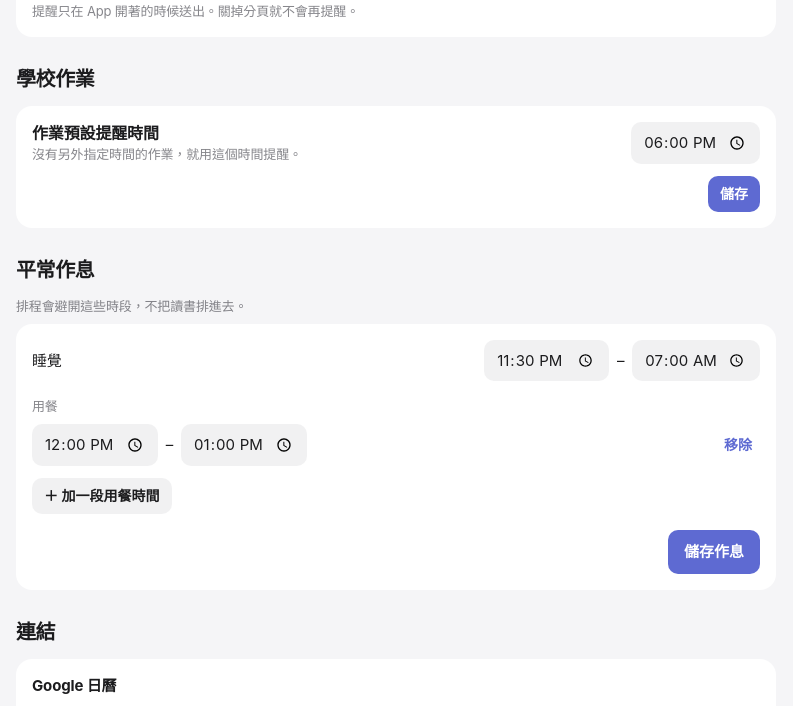
Test: 設定頁 › 時間格式不對就擋下來，不送出一份壞掉的作息
This screenshot has width=793, height=706.
(page scrolled)
Replace the text in the time field named "睡覺開始" with "25:99" at (546, 360), box x1=484 y1=340 x2=609 y2=381
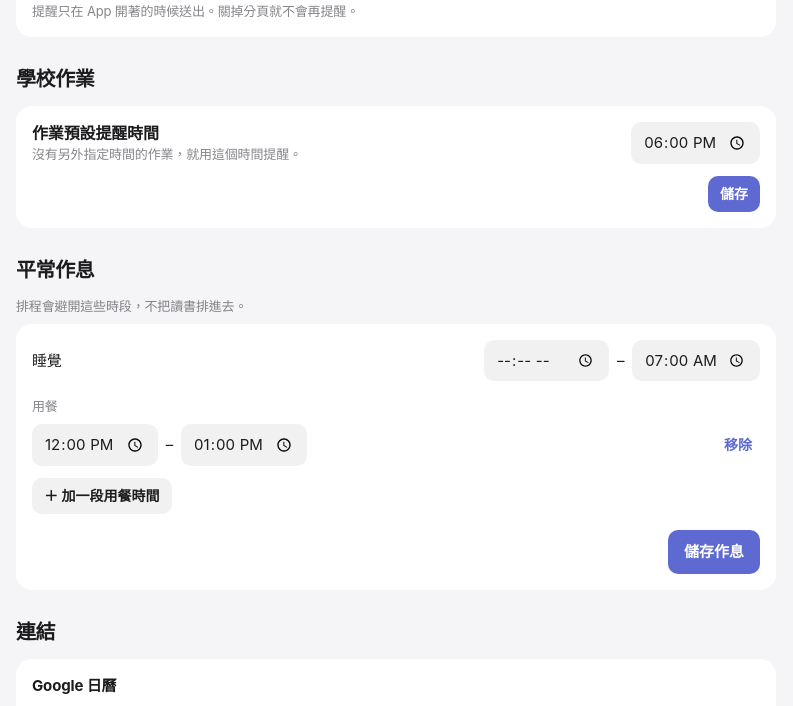
Click the button "儲存作息".
click(714, 552)  # box x1=668 y1=530 x2=760 y2=574
(page scrolled)
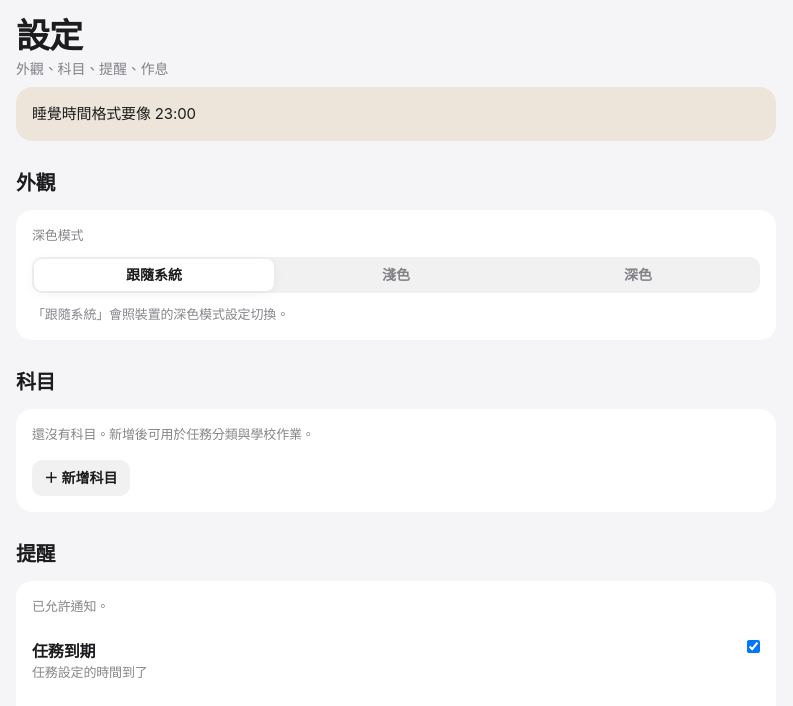
Expected: the message "睡覺時間格式要像 23:00" is shown, x1=16 y1=87 x2=776 y2=141
